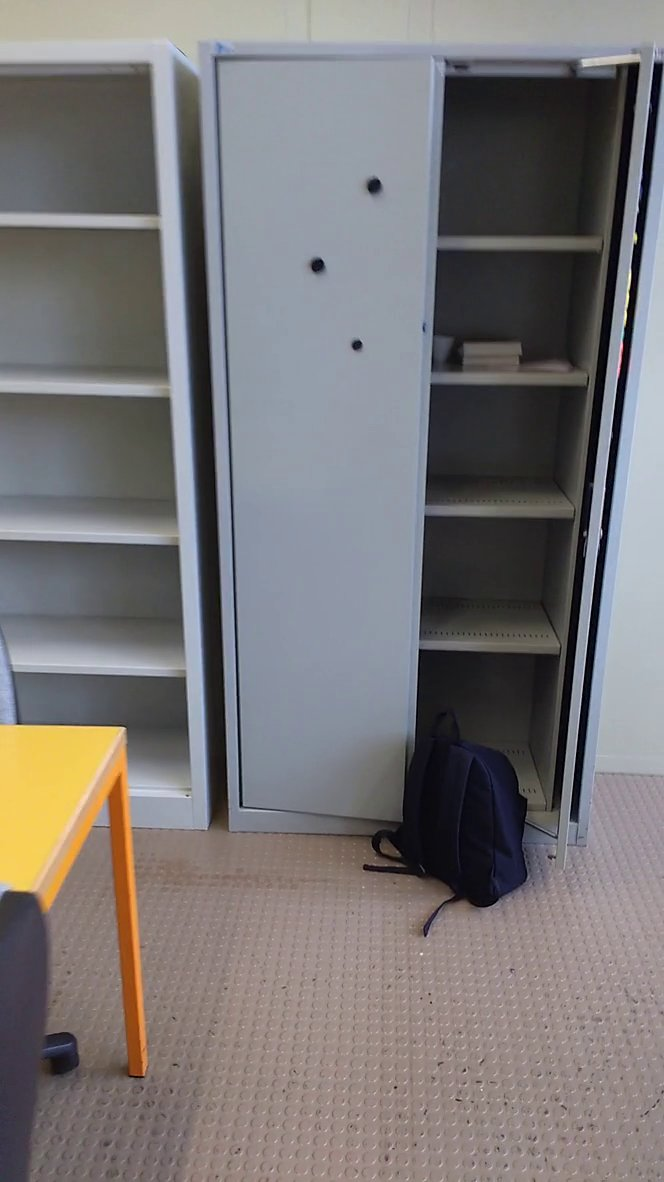bag: (363, 694, 532, 922)
